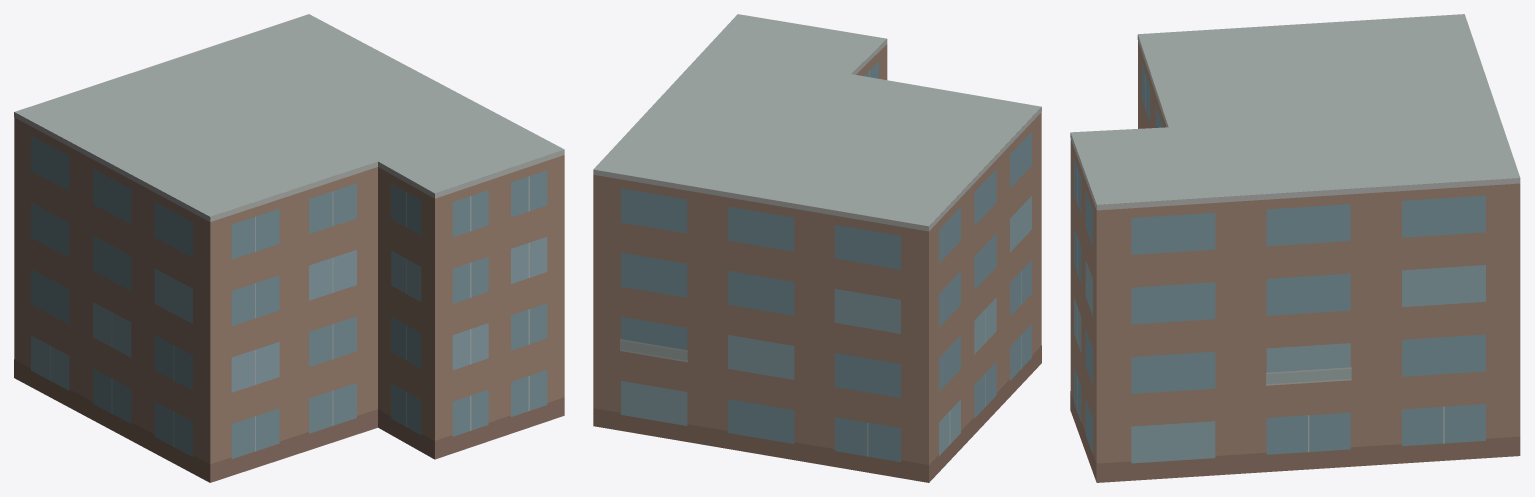
Rendered from survey-upis-32836251.glb.
3 renders of one model, left to right at view 1: azimuth 30°, elevation 25°; view 2: azimuth 150°, elevation 25°; view 3: azimuth 270°, elevation 25°, orthographic. The views are drawn at different scales.
Parts seen in each view (by area): view 1: survey-upis-32836251.tmp; view 2: survey-upis-32836251.tmp; view 3: survey-upis-32836251.tmp.
Boxes of the visible parts, left/top/right/bottom form: survey-upis-32836251.tmp: left=14, top=14, right=564, bottom=482; survey-upis-32836251.tmp: left=593, top=14, right=1041, bottom=482; survey-upis-32836251.tmp: left=1070, top=14, right=1520, bottom=482.
Bounding box in the file's own units: 17.98 × 12.2 × 17.91.
